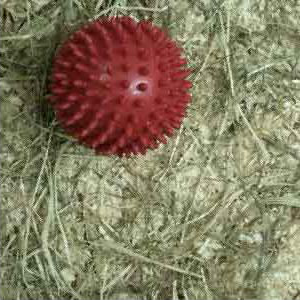ball: (46, 16, 194, 157)
